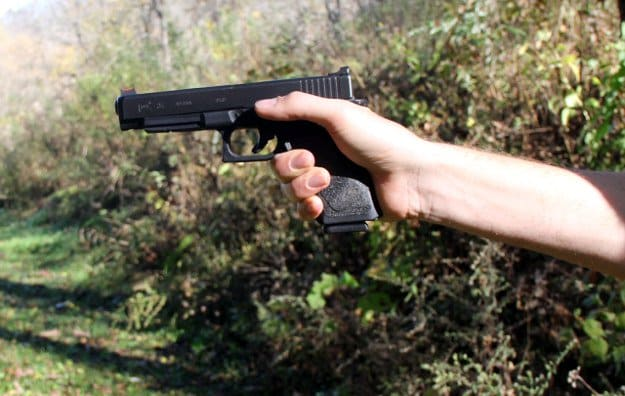Gun: (112, 57, 363, 177)
